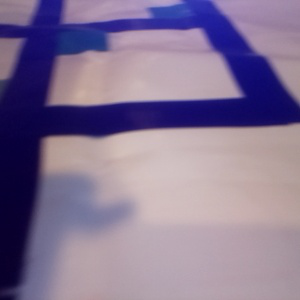bottom_right: (29, 26, 108, 55)
top_left: (148, 4, 215, 28)
